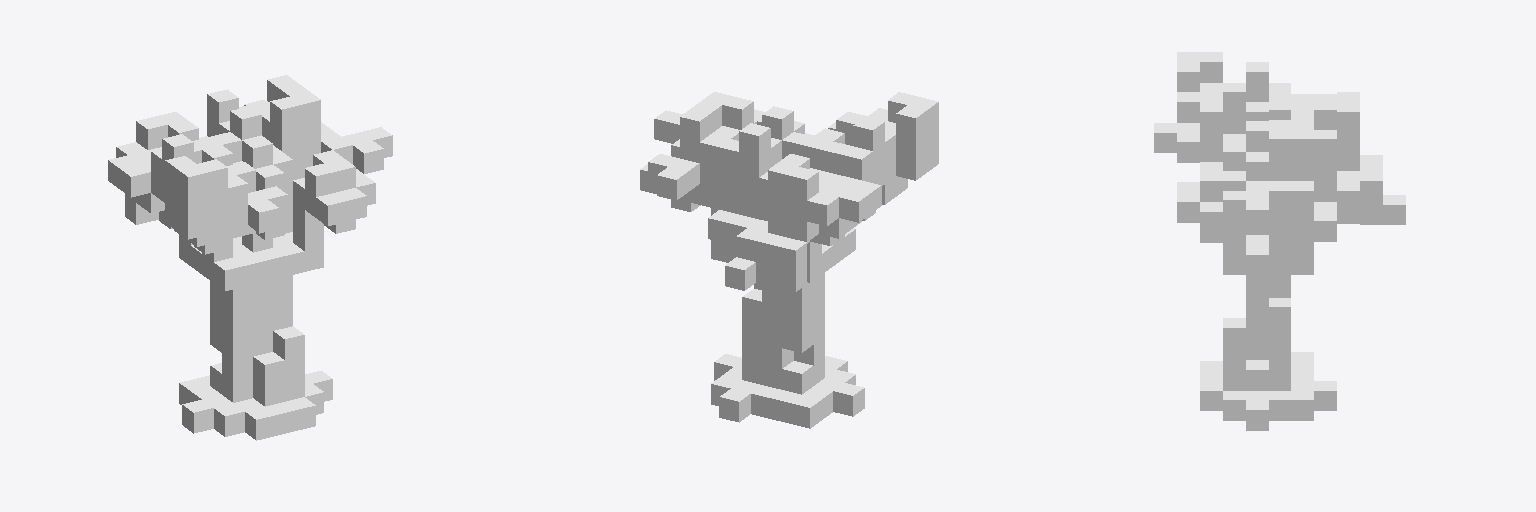
Rendered from TreeApple.obj.
The picture shows the model from 3 angles: view 1: azimuth 30°, elevation 25°; view 2: azimuth 150°, elevation 25°; view 3: azimuth 270°, elevation 25°; orthographic projection.
Bounding box in the file's own units: 12 × 14 × 11.